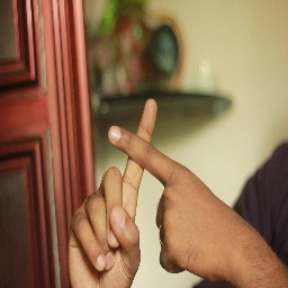X: (78, 87, 204, 215)
